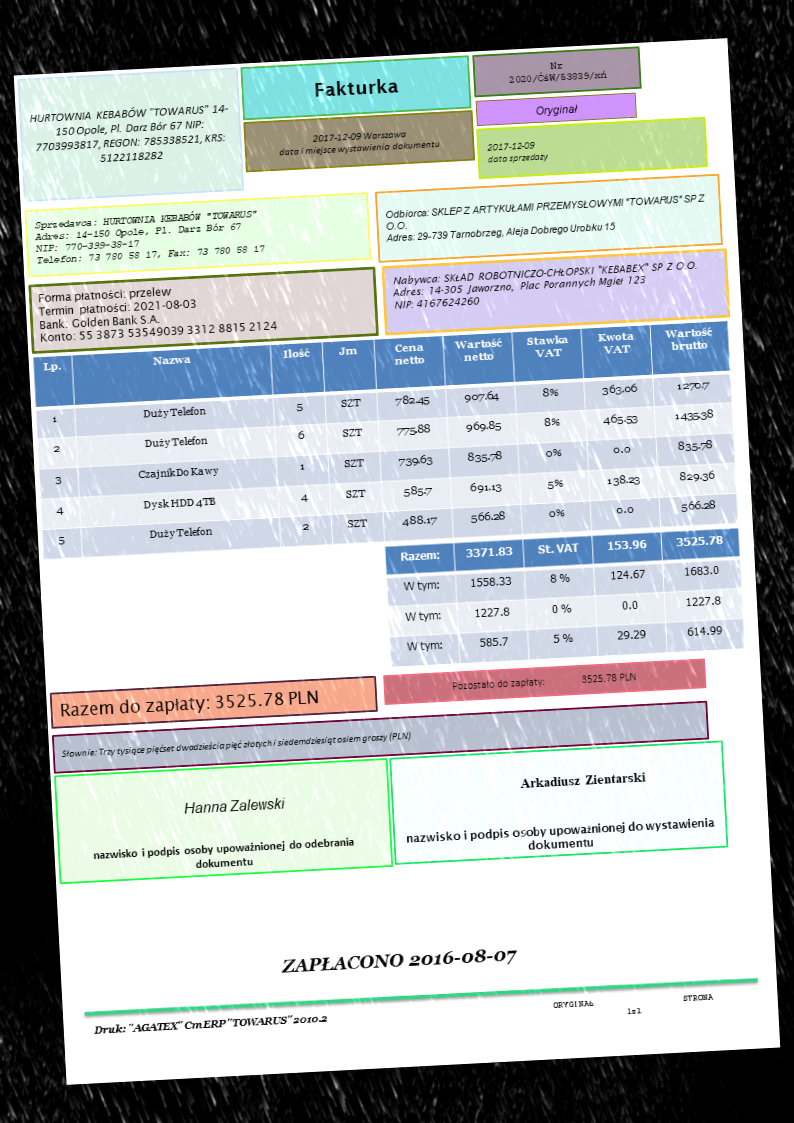Table: (31, 318, 740, 562), (383, 525, 746, 666)
TextBox: (380, 187, 710, 249), (387, 254, 702, 315), (33, 278, 280, 345), (29, 203, 268, 269), (402, 810, 720, 859), (26, 98, 234, 172), (56, 725, 415, 763), (88, 831, 361, 878), (53, 680, 322, 722), (278, 939, 522, 981), (89, 1009, 334, 1041), (273, 122, 443, 160), (446, 665, 642, 695), (550, 989, 716, 1023), (517, 767, 650, 795), (506, 54, 612, 88), (178, 789, 288, 820), (308, 72, 401, 101), (483, 136, 551, 170), (532, 99, 582, 119)
